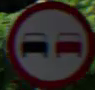No overtake: (11, 9, 86, 78)
